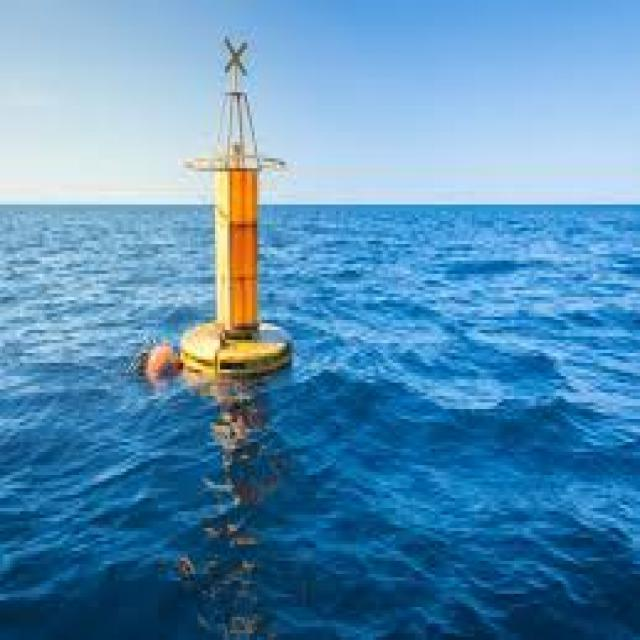buoy: (178, 23, 294, 385)
